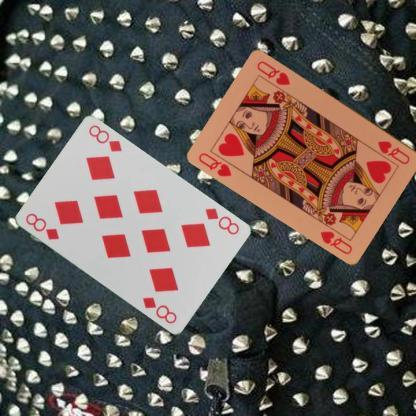8d: (23, 210, 61, 242), (203, 205, 240, 236)
Qh: (374, 137, 412, 166), (196, 150, 233, 178)
